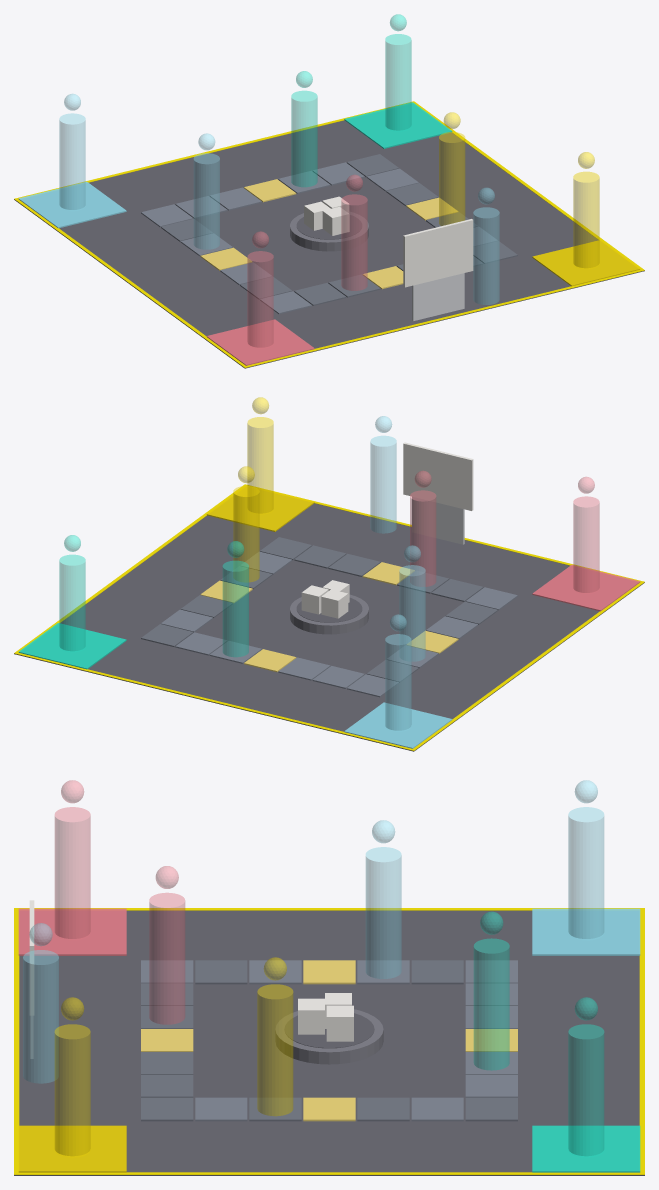
Rendered from G03_THE_RUN.glb.
3 views of the same model, one above another, from view 1: azimuth 30°, elevation 25°; view 2: azimuth 150°, elevation 25°; view 3: azimuth 270°, elevation 25° (orthographic). The views are drawn at different scales.
Parts seen in each view (by area): view 1: floor_area, progress_board, home_base_2, home_base_3, home_base_1, home_base_0, operator_body, player_home_0_body, player_home_1_body, pawn_2_body, pawn_3_body, player_home_3_body (+32 smaller); view 2: floor_area, progress_board, home_base_1, home_base_0, home_base_2, home_base_3, operator_body, player_home_3_body, pawn_2_body, player_home_2_body, player_home_0_body, pawn_0_body (+36 smaller); view 3: floor_area, home_base_1, home_base_2, home_base_3, home_base_0, pawn_0_body, pawn_2_body, player_home_1_body, player_home_2_body, pawn_1_body, player_home_0_body, player_home_3_body (+35 smaller).
Part boxes in pixels (bbox=[...]): floor_area: bbox=[14, 120, 644, 368]; progress_board: bbox=[403, 219, 473, 287]; home_base_2: bbox=[344, 102, 452, 148]; home_base_3: bbox=[18, 181, 126, 228]; home_base_1: bbox=[532, 240, 640, 286]; home_base_0: bbox=[206, 319, 314, 365]; operator_body: bbox=[473, 207, 499, 304]; player_home_0_body: bbox=[247, 251, 273, 347]; player_home_1_body: bbox=[573, 171, 599, 268]; pawn_2_body: bbox=[291, 90, 317, 187]; pawn_3_body: bbox=[193, 153, 219, 249]; player_home_3_body: bbox=[59, 113, 85, 209]; floor_area: bbox=[14, 503, 644, 751]; progress_board: bbox=[403, 442, 473, 510]; home_base_1: bbox=[206, 485, 314, 531]; home_base_0: bbox=[532, 564, 640, 611]; home_base_2: bbox=[18, 623, 126, 669]; home_base_3: bbox=[344, 702, 452, 748]; operator_body: bbox=[370, 435, 396, 533]; player_home_3_body: bbox=[385, 634, 411, 730]; pawn_2_body: bbox=[222, 560, 248, 657]; player_home_2_body: bbox=[59, 554, 85, 651]; player_home_0_body: bbox=[573, 496, 599, 592]; pawn_0_body: bbox=[410, 490, 436, 586]; floor_area: bbox=[14, 910, 644, 1175]; home_base_1: bbox=[18, 1125, 126, 1172]; home_base_2: bbox=[532, 1125, 640, 1172]; home_base_3: bbox=[532, 908, 640, 955]; home_base_0: bbox=[18, 908, 126, 955]; pawn_0_body: bbox=[149, 892, 185, 1024]; pawn_2_body: bbox=[473, 938, 509, 1070]; player_home_1_body: bbox=[54, 1024, 90, 1156]; player_home_2_body: bbox=[568, 1024, 604, 1156]; pawn_1_body: bbox=[257, 984, 293, 1116]; player_home_0_body: bbox=[54, 807, 90, 938]; player_home_3_body: bbox=[568, 807, 604, 938].
Size of the model in its own units: 7 by 1.87 by 7.
